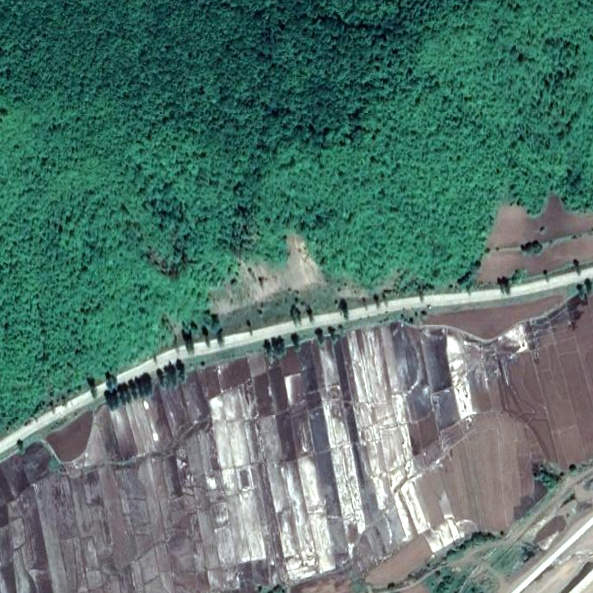slope: (204, 226, 329, 315)
